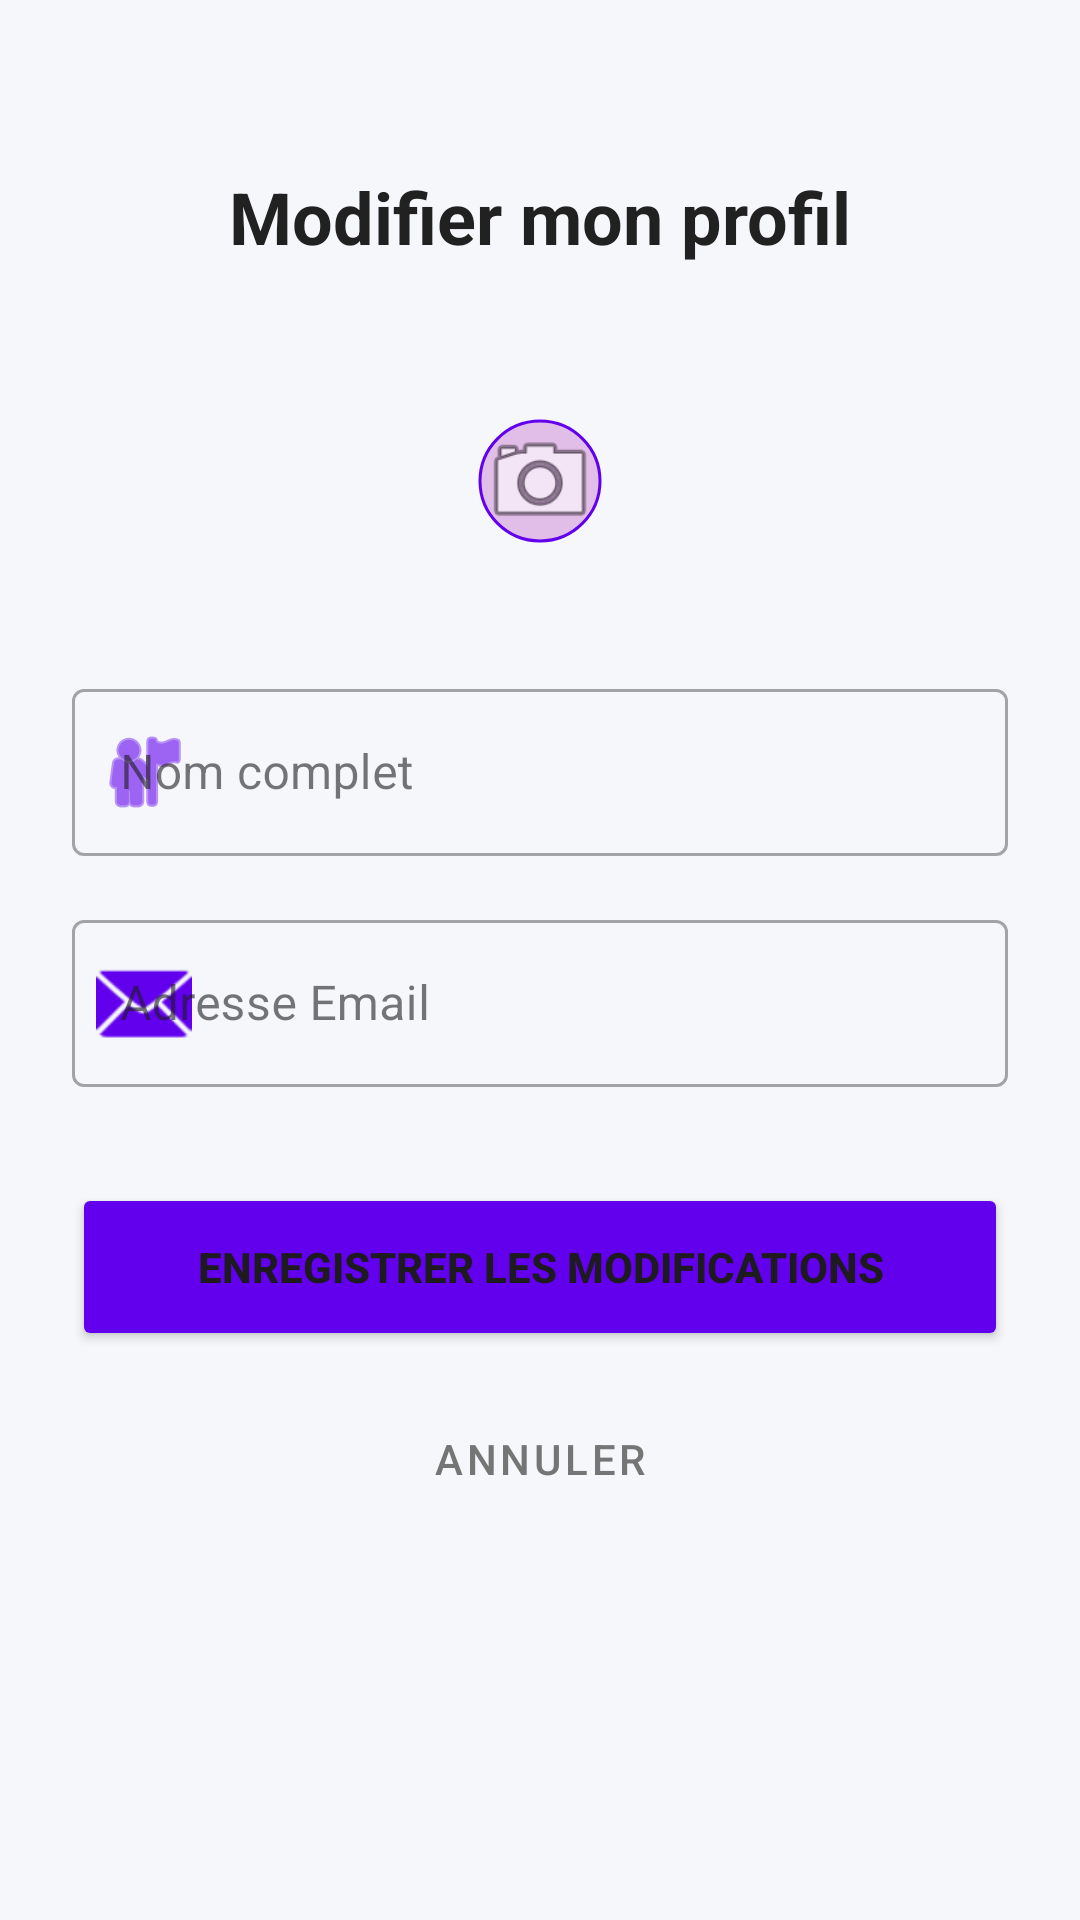

Screen size 1080px×1920px. Icon name, then its center in pixels as point (x, y):
camera: point (540, 481)
